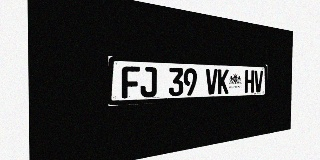3: (169, 68, 183, 96)
9: (183, 68, 197, 96)
F: (122, 66, 140, 98)
H: (245, 70, 254, 93)
J: (140, 67, 157, 98)
K: (217, 69, 229, 94)
V: (206, 69, 217, 95), (254, 70, 263, 92)
